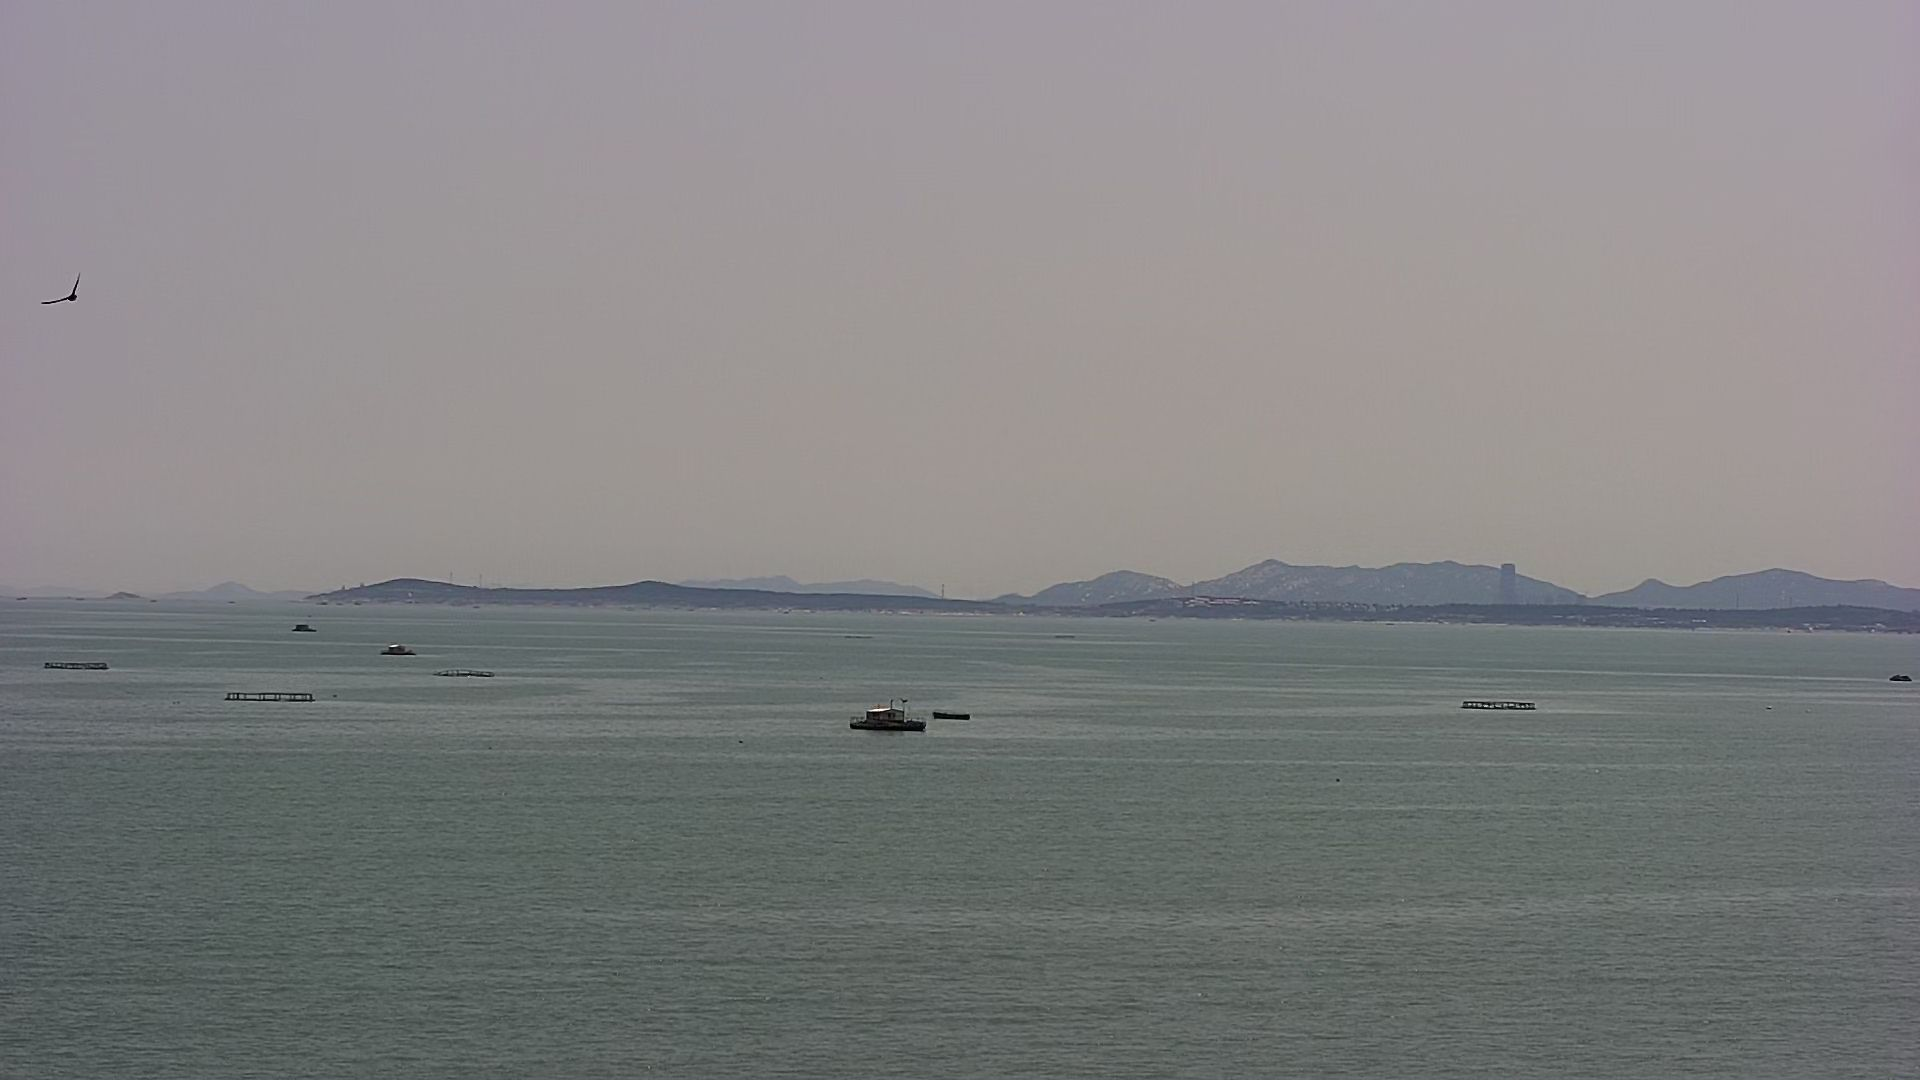platform: (843, 684, 932, 741), (211, 679, 319, 709), (1447, 691, 1548, 719), (38, 653, 112, 678), (371, 641, 423, 663)
